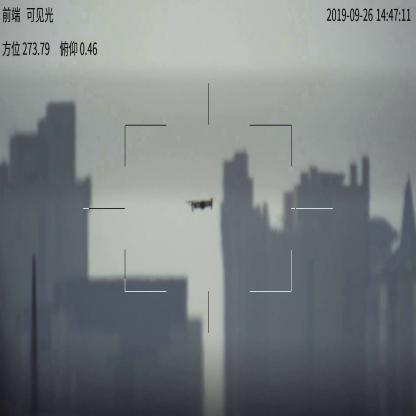uav: (188, 191, 216, 209)
